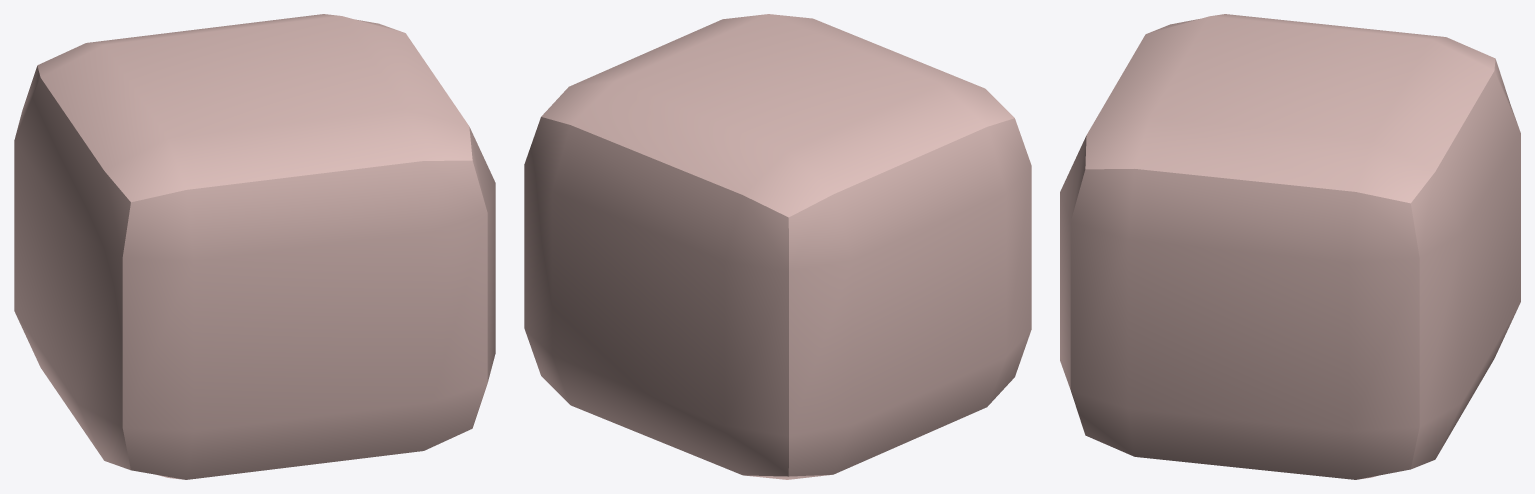
Rendered from SM_DrumstickCube1.fbx.
3 renders of one model, left to right at view 1: azimuth 30°, elevation 25°; view 2: azimuth 150°, elevation 25°; view 3: azimuth 270°, elevation 25°, orthographic. The views are drawn at different scales.
Parts seen in each view (by area): view 1: pCube7; view 2: pCube7; view 3: pCube7.
Part boxes in pixels (x1,y1,x2,y2): pCube7: (14, 14, 495, 479); pCube7: (524, 14, 1031, 479); pCube7: (1060, 14, 1520, 479).
Size of the model in its own units: 17.85 by 14.02 by 17.35.
